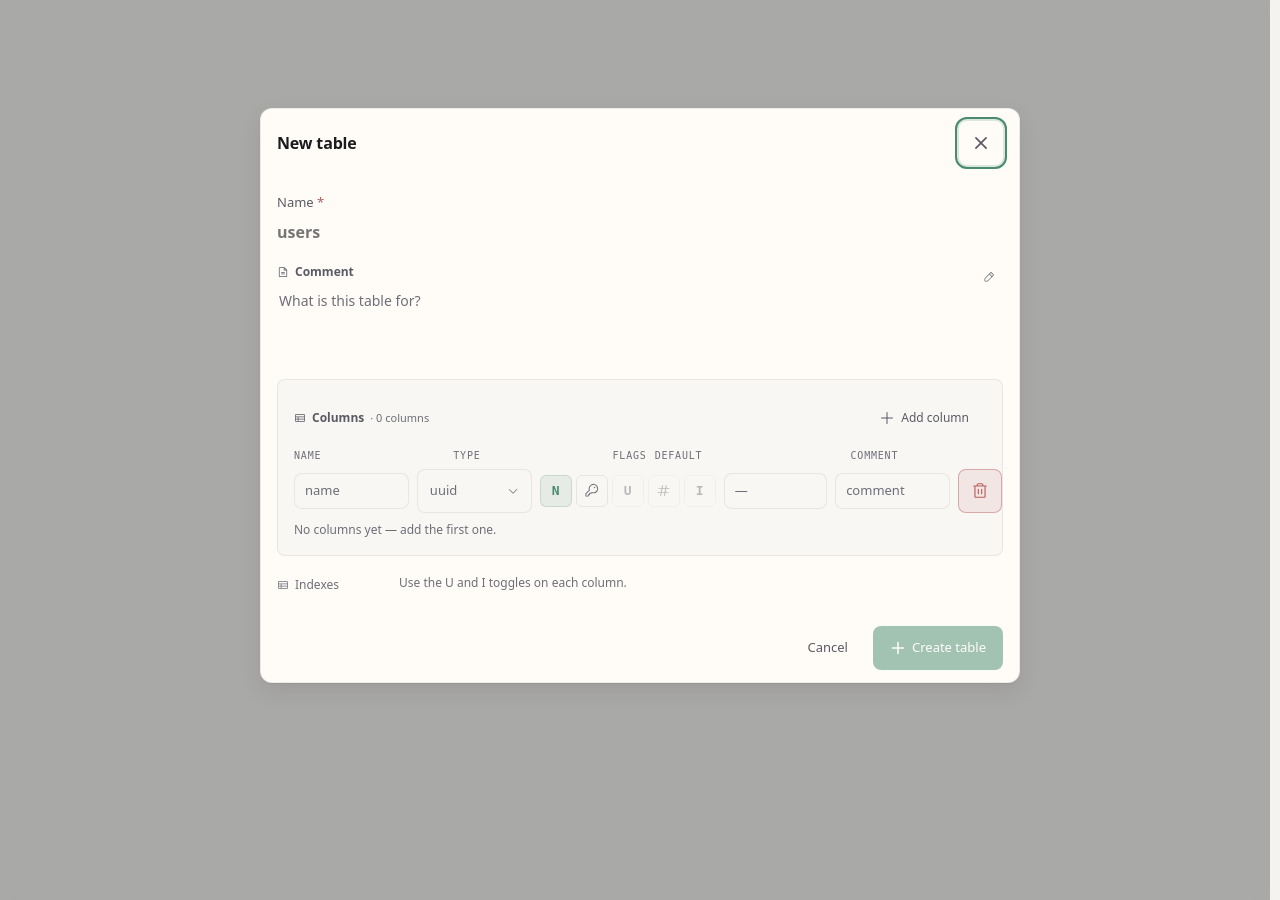
Scenario: U7 Comment + Unique di grid kolom › Unique disabled saat nama kolom kosong (kedua modal) + comment selalu aktif
Expected: the button "U" is disabled, [612,475,644,507]
Expected: the field labelled "comment" is enabled, [835,473,950,509]
# isi nama → unique aktif
In the field with placeholder "name": (351, 491) [294,473,409,509], type "email"
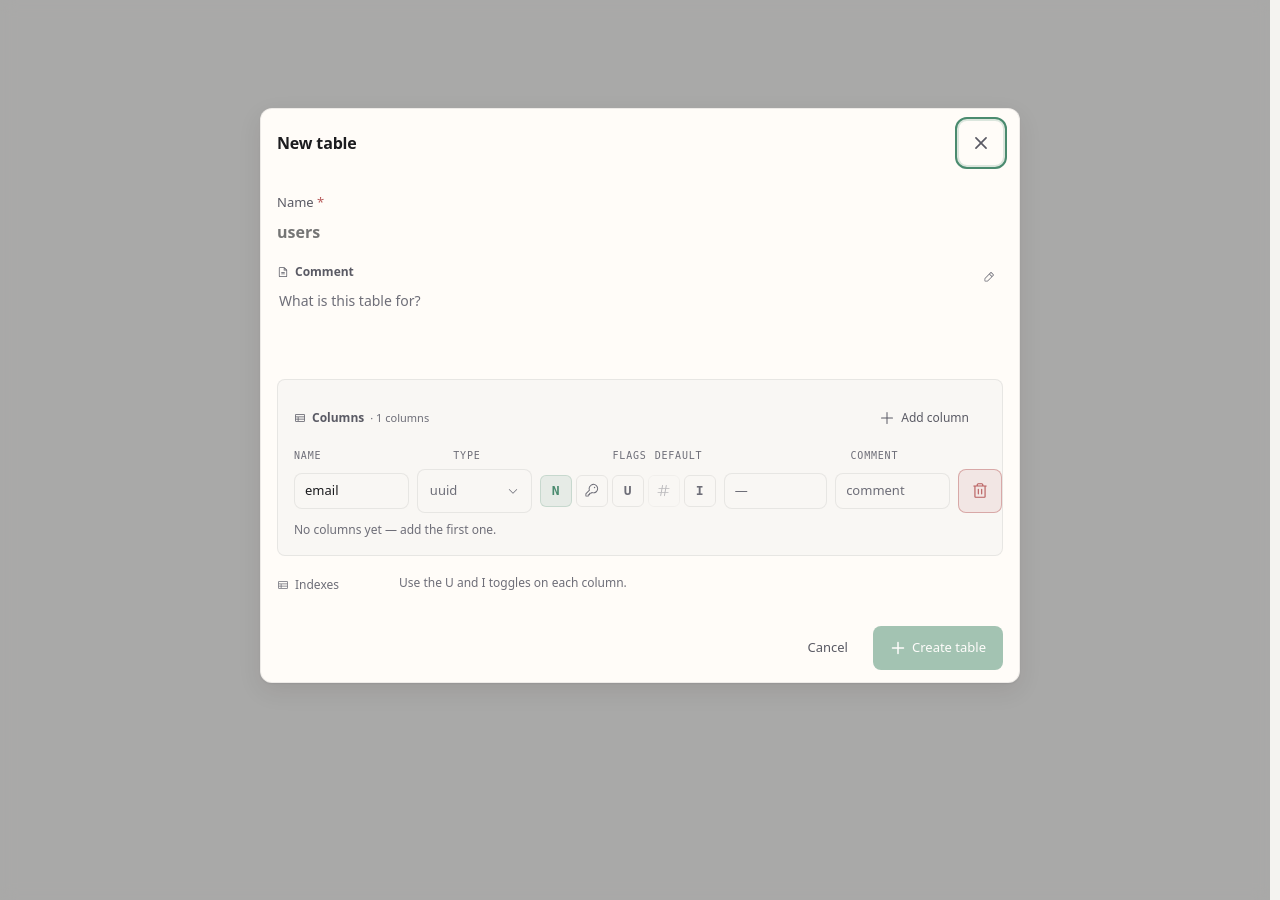
Now the button "U" is enabled, box [612,475,644,507]
